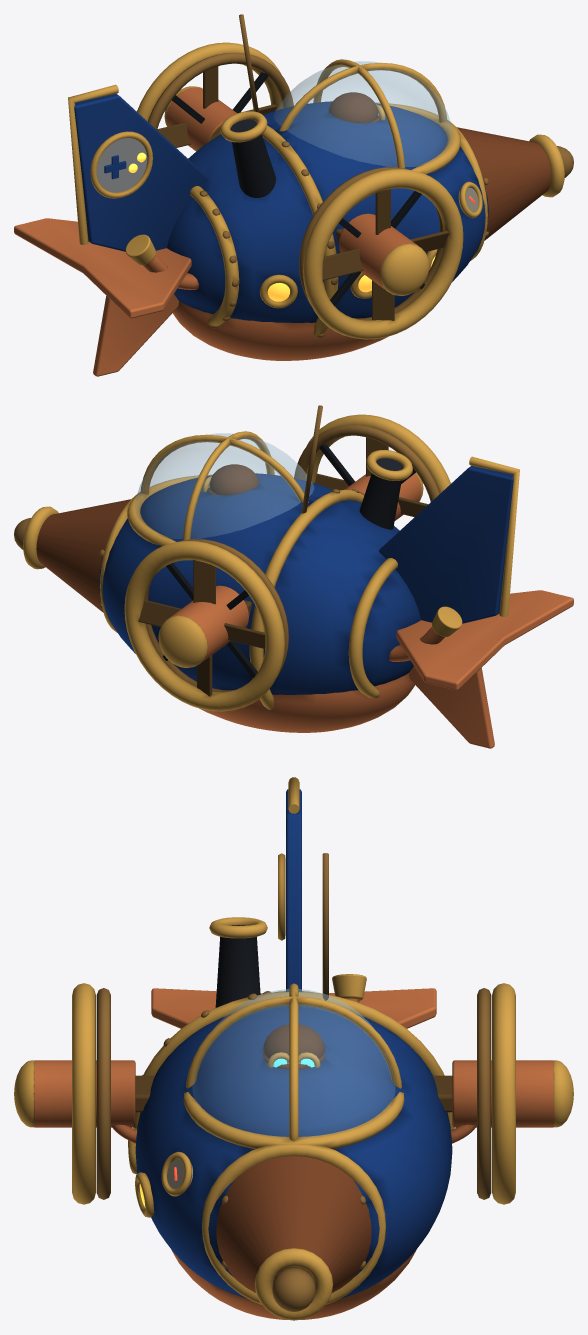
The model's file is drone.glb.
The picture shows the model from 3 angles, top to bottom: view 1: azimuth 30°, elevation 25°; view 2: azimuth 150°, elevation 25°; view 3: azimuth 270°, elevation 25°; orthographic projection. The views are drawn at different scales.
Parts seen in each view (by area): view 1: Body, Canopy, PropL, PropR; view 2: Body, Canopy, PropR, PropL; view 3: Body, Canopy.
Part boxes in pixels (x1,y1,x2,y2): Body: (14,14,573,376); Canopy: (274,61,452,166); PropL: (322,189,449,320); PropR: (157,66,277,147); Body: (14,405,573,748); Canopy: (135,433,313,538); PropR: (138,560,265,696); PropL: (314,437,428,516); Body: (14,777,573,1320); Canopy: (192,989,395,1137).
Size of the model in its own units: 1.79 by 1.13 by 1.41.
